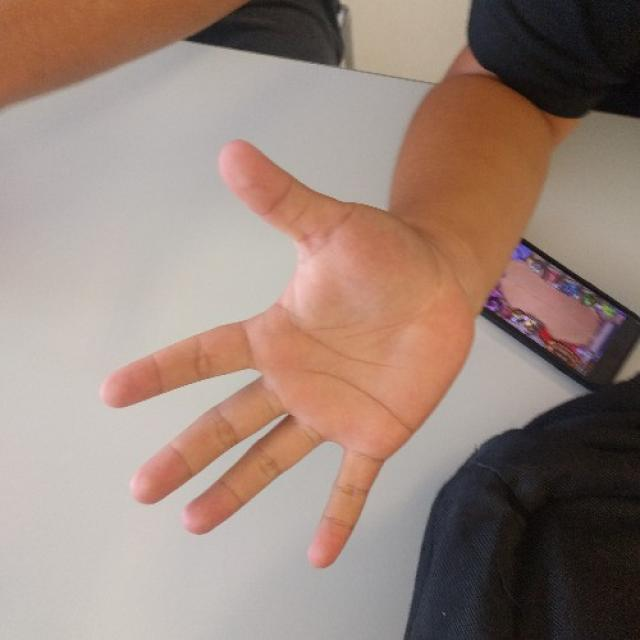paper: (107, 138, 472, 571)
